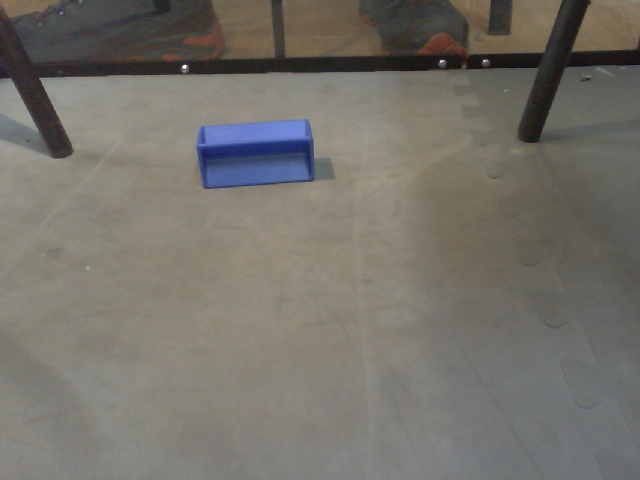BlueSample: (193, 115, 319, 188)
